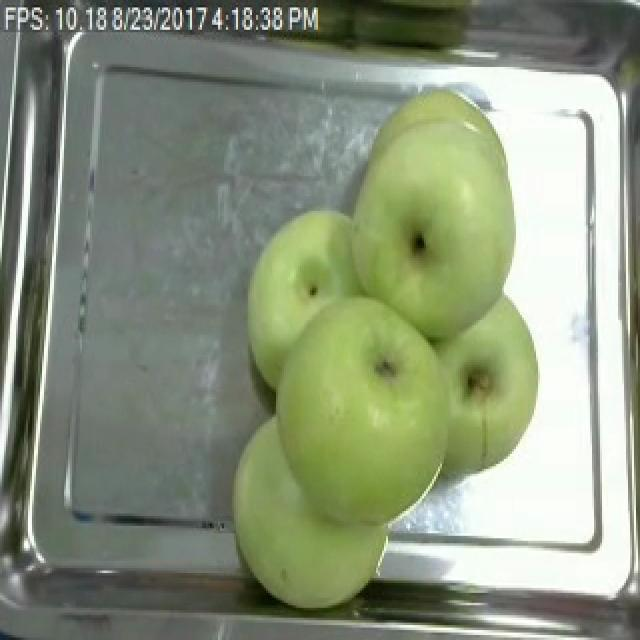50-_ripeness: (277, 299, 475, 533), (334, 126, 523, 343)
